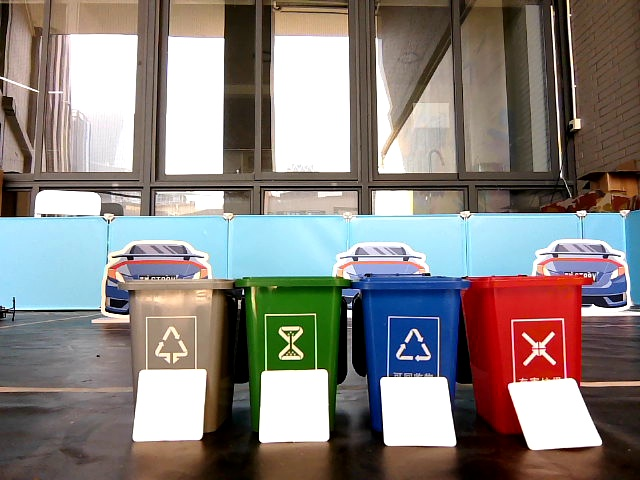blue_open: (364, 275, 454, 373)
green_open: (248, 276, 337, 368)
grey_open: (129, 283, 226, 370)
red_open: (480, 277, 575, 376)
